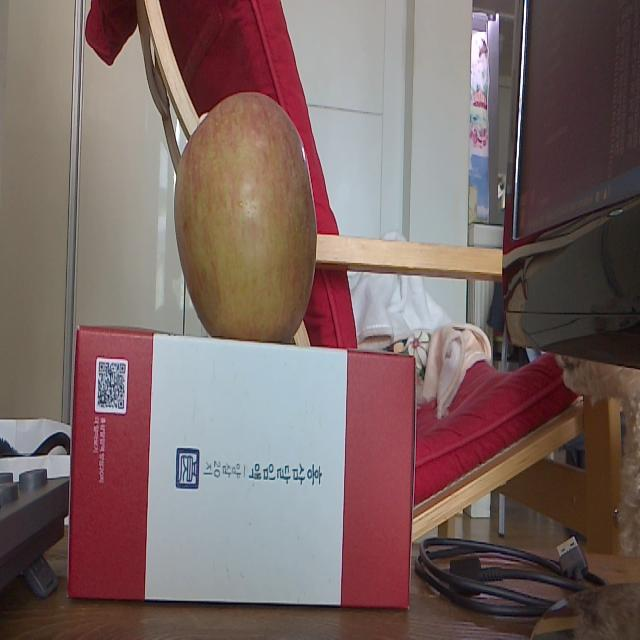apple: (174, 85, 323, 340)
